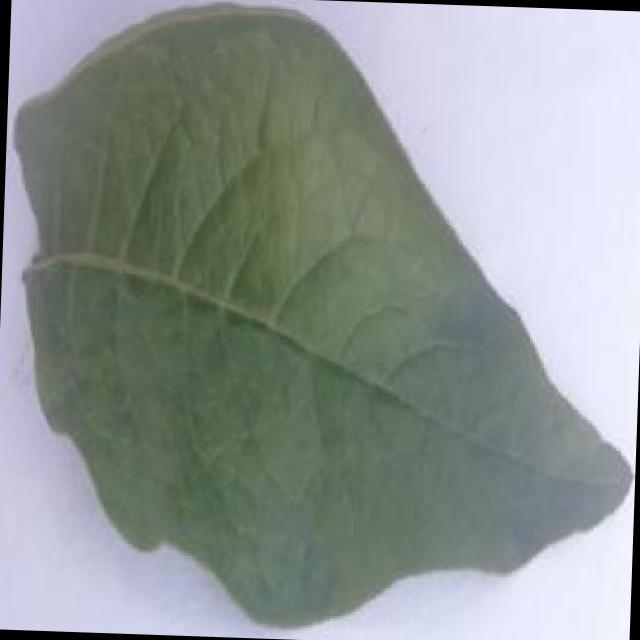Potato_Healthy: (0, 0, 631, 639)
